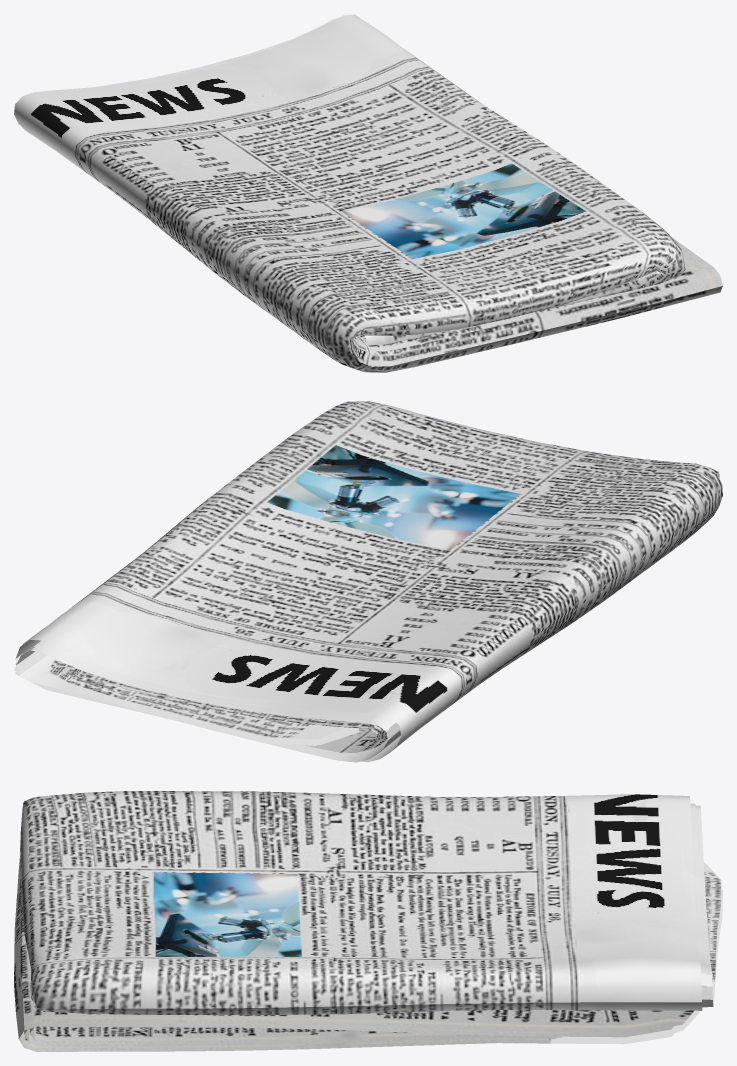
Rendered from Newspaper.FBX.
3 views of the same model, one above another, from view 1: azimuth 30°, elevation 25°; view 2: azimuth 150°, elevation 25°; view 3: azimuth 270°, elevation 25° (orthographic). The views are drawn at different scales.
Visible parts, largest first — view 1: Newspaper; view 2: Newspaper; view 3: Newspaper.
Boxes of the visible parts, x1,y1,x2,y2 form: Newspaper: (14,14,722,372); Newspaper: (14,401,722,762); Newspaper: (14,791,722,1051).
Size of the model in its own units: 20.34 by 3.42 by 30.6.
1 material, 1 textured.
